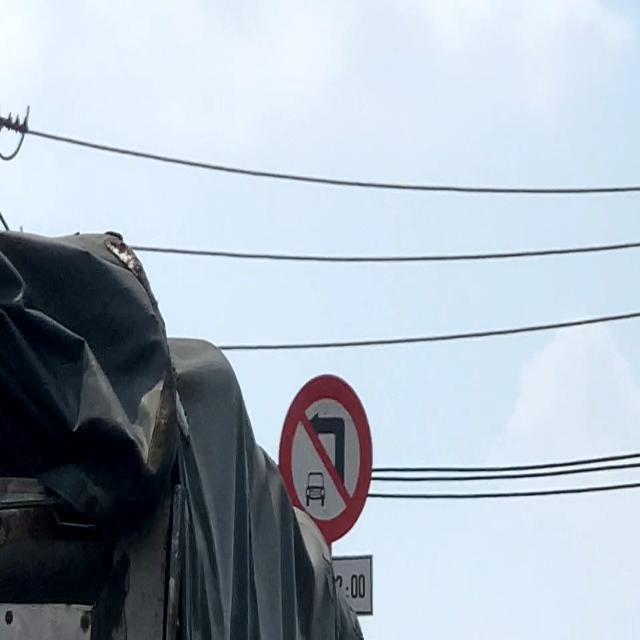P.103c: (295, 364, 374, 517)
